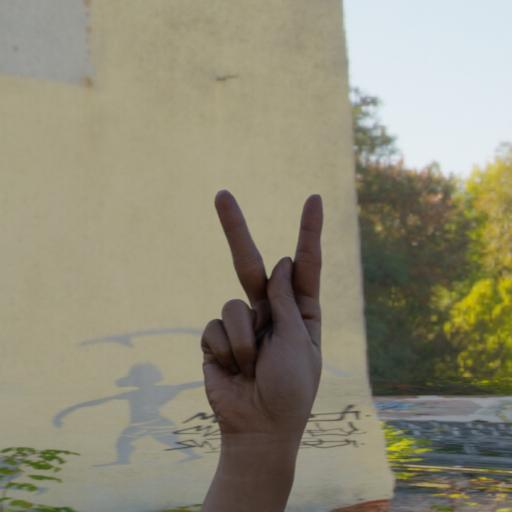K: (182, 175, 348, 454)
